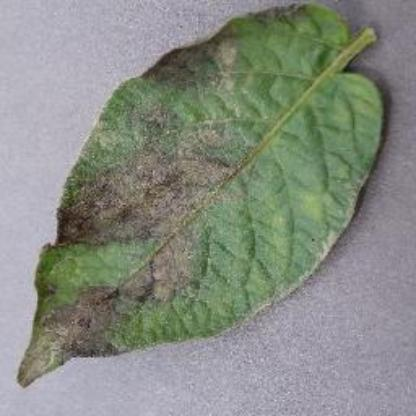Late-Blight: (13, 3, 388, 398)
